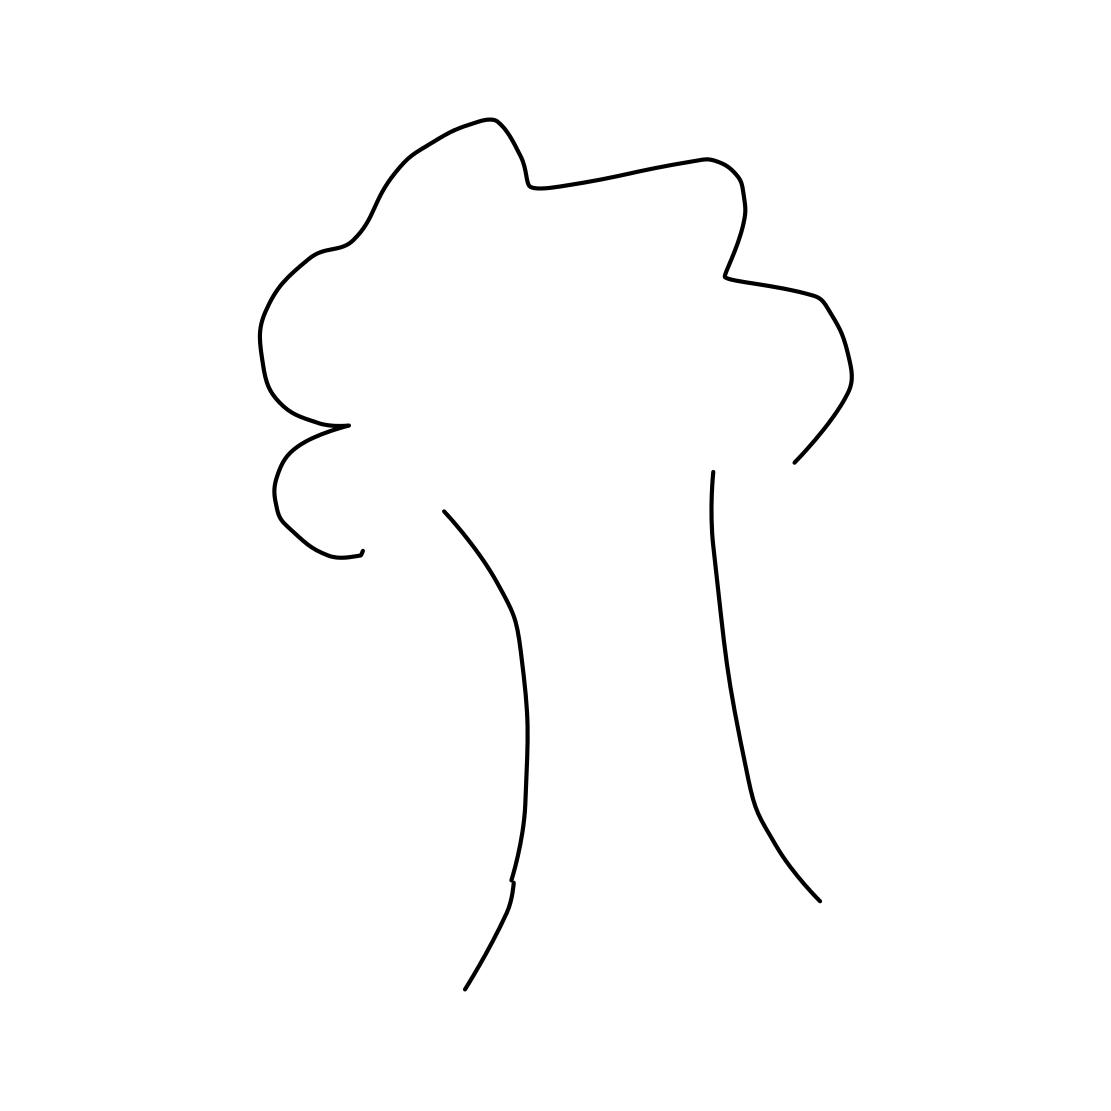Tree: (204, 74, 875, 1007)
